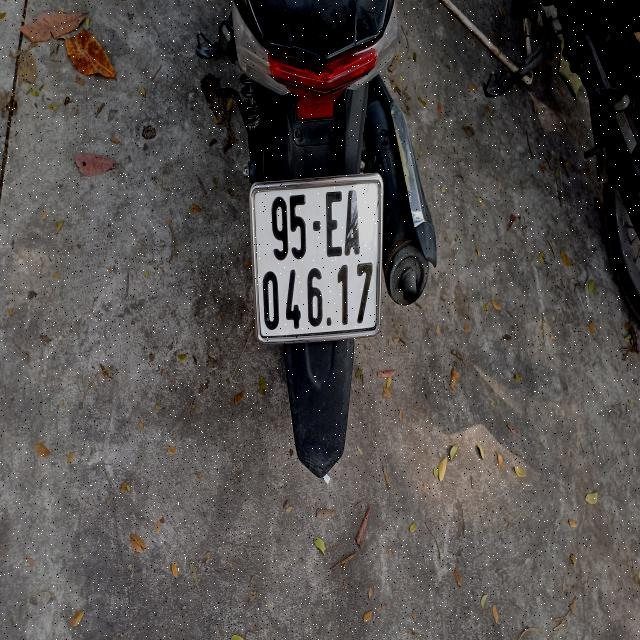0: (262, 270, 280, 330)
1: (336, 262, 350, 328)
4: (286, 268, 301, 329)
5: (289, 192, 307, 262)
6: (306, 268, 324, 326)
7: (355, 262, 374, 323)
9: (271, 194, 288, 262)
A: (343, 190, 361, 258)
E: (325, 190, 342, 259)
